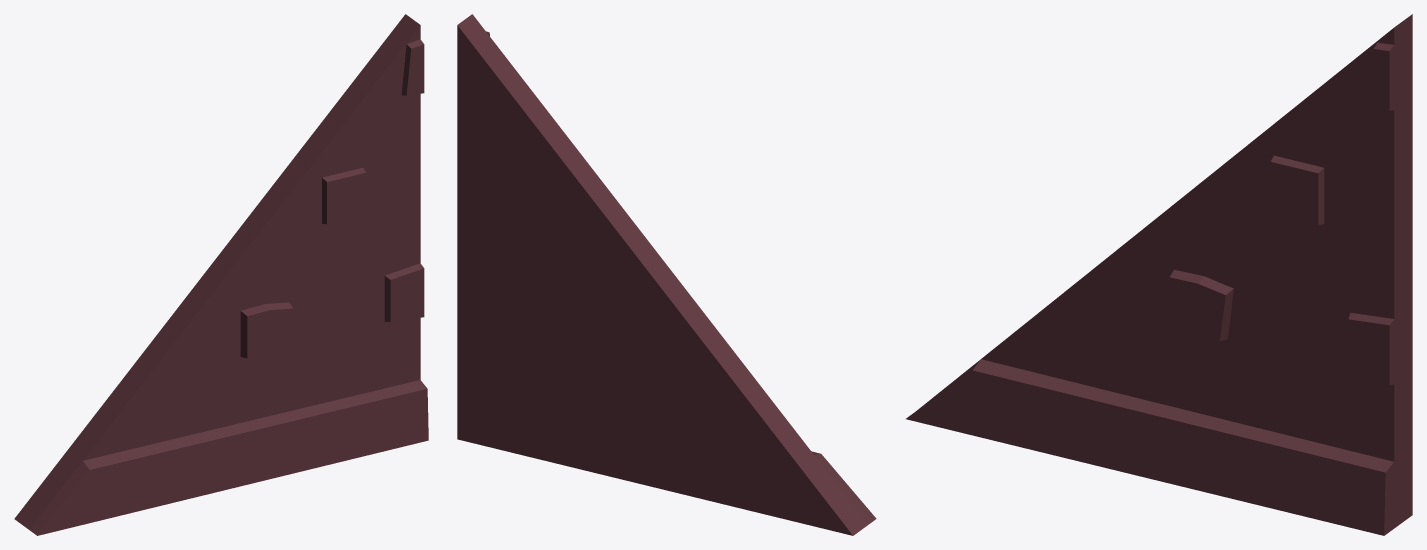
The model's file is empire-stone-wall-verical-l-3x3-empire.glb.
3 renders of one model, left to right at view 1: azimuth 30°, elevation 25°; view 2: azimuth 150°, elevation 25°; view 3: azimuth 330°, elevation 25°, orthographic. The views are drawn at different scales.
Parts seen in each view (by area): view 1: SM_Stone_Wall_Verical_L_3x3_Empire; view 2: SM_Stone_Wall_Verical_L_3x3_Empire; view 3: SM_Stone_Wall_Verical_L_3x3_Empire.
Boxes of the visible parts, x1,y1,x2,y2 form: SM_Stone_Wall_Verical_L_3x3_Empire: [14, 14, 428, 535]; SM_Stone_Wall_Verical_L_3x3_Empire: [457, 14, 876, 535]; SM_Stone_Wall_Verical_L_3x3_Empire: [906, 14, 1412, 535].
Size of the model in its own units: 3 by 3 by 0.3082.
